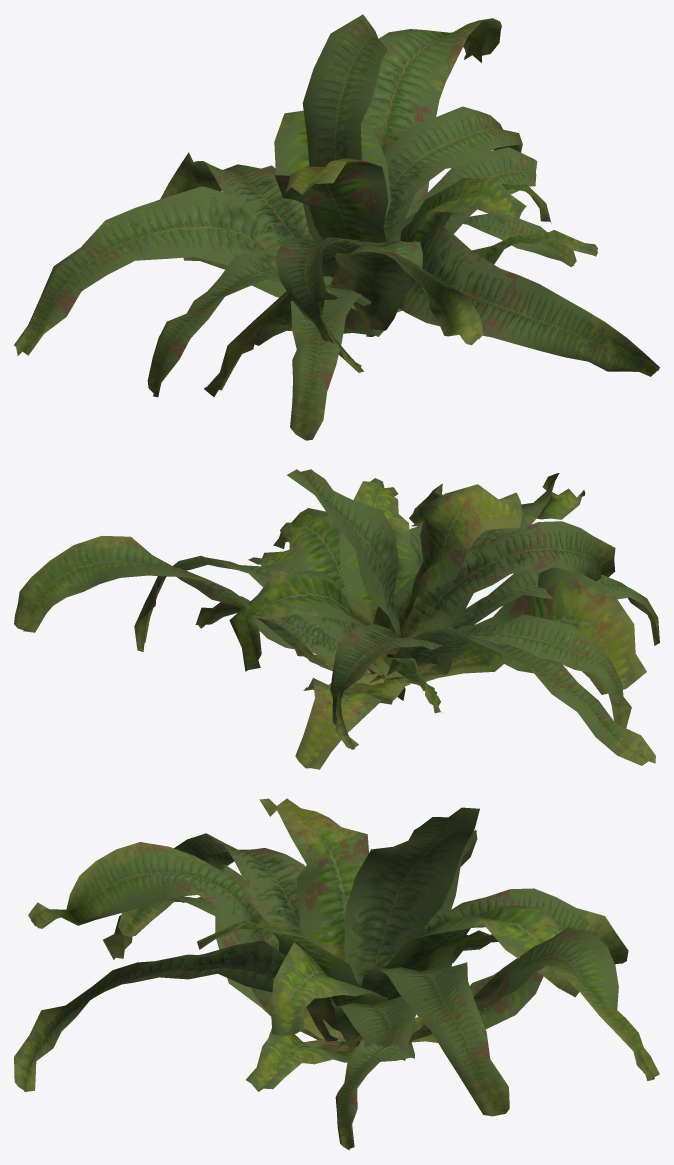
File: grounded-fern-clear.glb
The picture shows the model from 3 angles, top to bottom: view 1: azimuth 30°, elevation 25°; view 2: azimuth 150°, elevation 25°; view 3: azimuth 270°, elevation 25°; orthographic projection. The views are drawn at different scales.
Visible parts, largest first — view 1: grounded-fern-clear runtime mesh; view 2: grounded-fern-clear runtime mesh; view 3: grounded-fern-clear runtime mesh.
Boxes of the visible parts, x1=… form: grounded-fern-clear runtime mesh: x1=14, y1=14, x2=659, y2=440; grounded-fern-clear runtime mesh: x1=14, y1=469, x2=659, y2=769; grounded-fern-clear runtime mesh: x1=14, y1=798, x2=659, y2=1150.
Bounding box in the file's own units: 1.1 × 0.4753 × 0.9932.
1 material, 1 textured.
